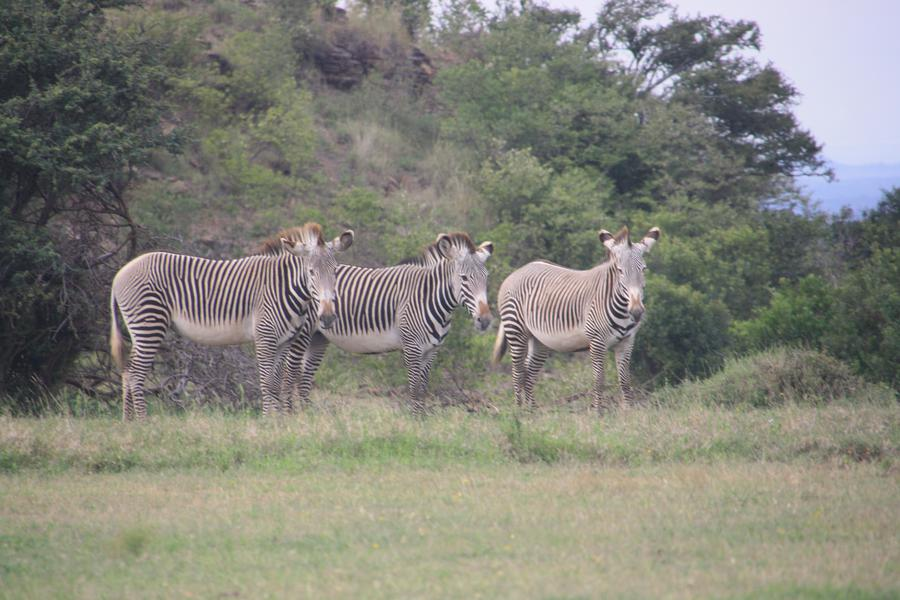zebra_grevys: (104, 246, 289, 343)
